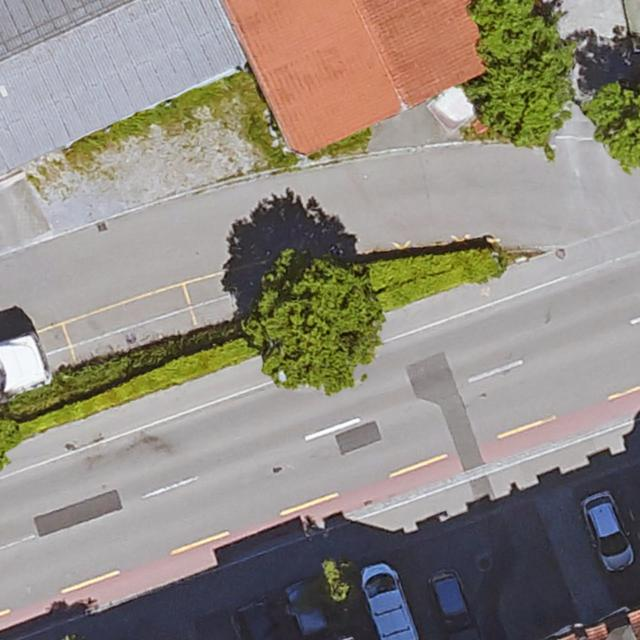tree: (251, 252, 370, 387), (476, 0, 568, 137), (589, 77, 640, 166)
